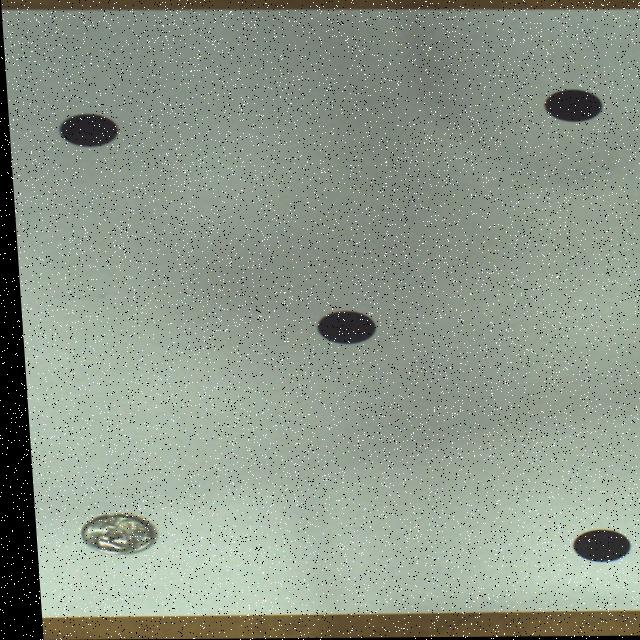head1bath: (74, 514, 148, 554)
space: (312, 311, 370, 345), (541, 90, 599, 123), (564, 531, 622, 563), (57, 115, 115, 147)
